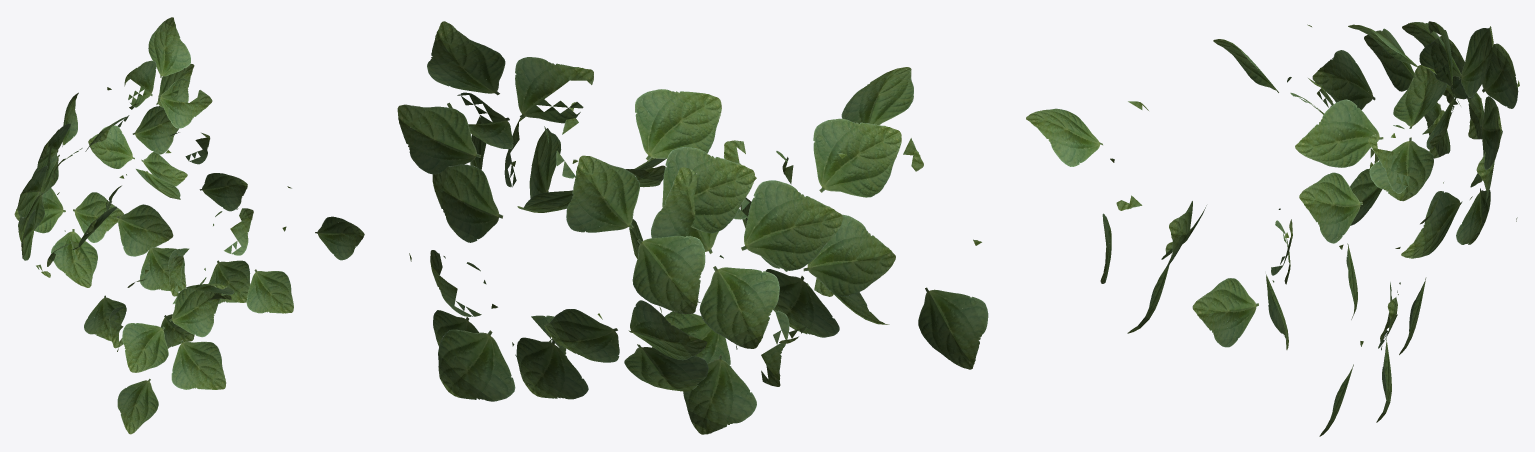
The model's file is soybean_50d.obj.
3 renders of one model, left to right at view 1: azimuth 30°, elevation 25°; view 2: azimuth 150°, elevation 25°; view 3: azimuth 270°, elevation 25°, orthographic. The views are drawn at different scales.
Parts seen in each view (by area): view 1: leaf; view 2: leaf; view 3: leaf.
Part boxes in pixels (x1,y1,x2,y2): leaf: (14,17,364,434); leaf: (397,21,988,434); leaf: (1026,21,1519,436).
Bounding box in the file's own units: 0.732 × 0.6554 × 0.7556.
1 material, 1 textured.
